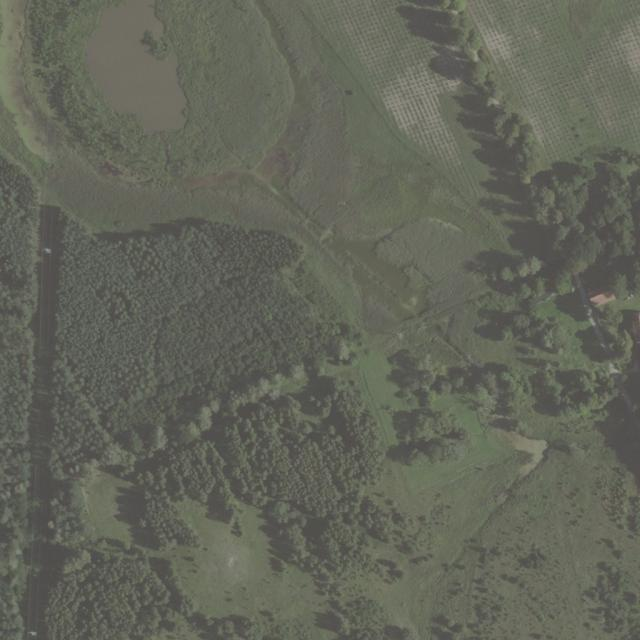agricultural_land: (2, 127, 353, 471), (373, 410, 625, 640), (204, 363, 424, 602)
greenland: (352, 414, 571, 581), (0, 355, 136, 504), (0, 157, 38, 639), (530, 150, 640, 298), (134, 423, 255, 523), (388, 349, 470, 465), (121, 482, 204, 570), (384, 401, 473, 469), (531, 367, 617, 420), (48, 478, 90, 547), (466, 381, 501, 416)
